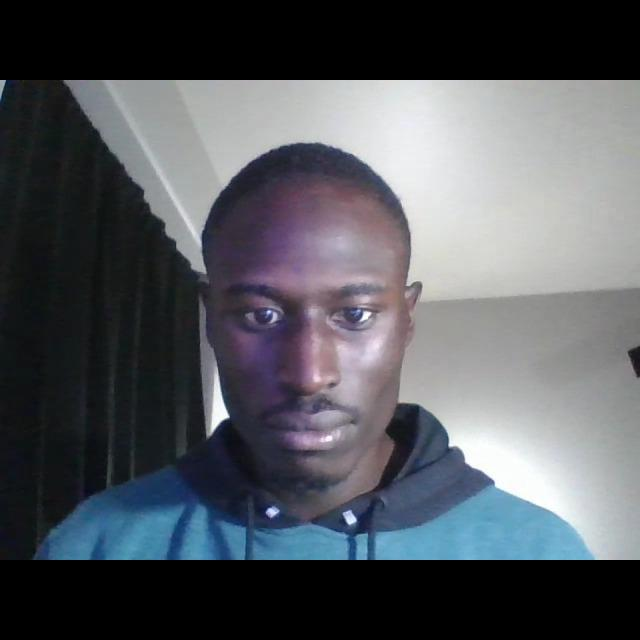NO-Hardhat: (201, 142, 416, 239)
NO-Mask: (215, 351, 401, 487)
NO-Safety Vest: (82, 466, 566, 560)
Person: (25, 143, 594, 560)
